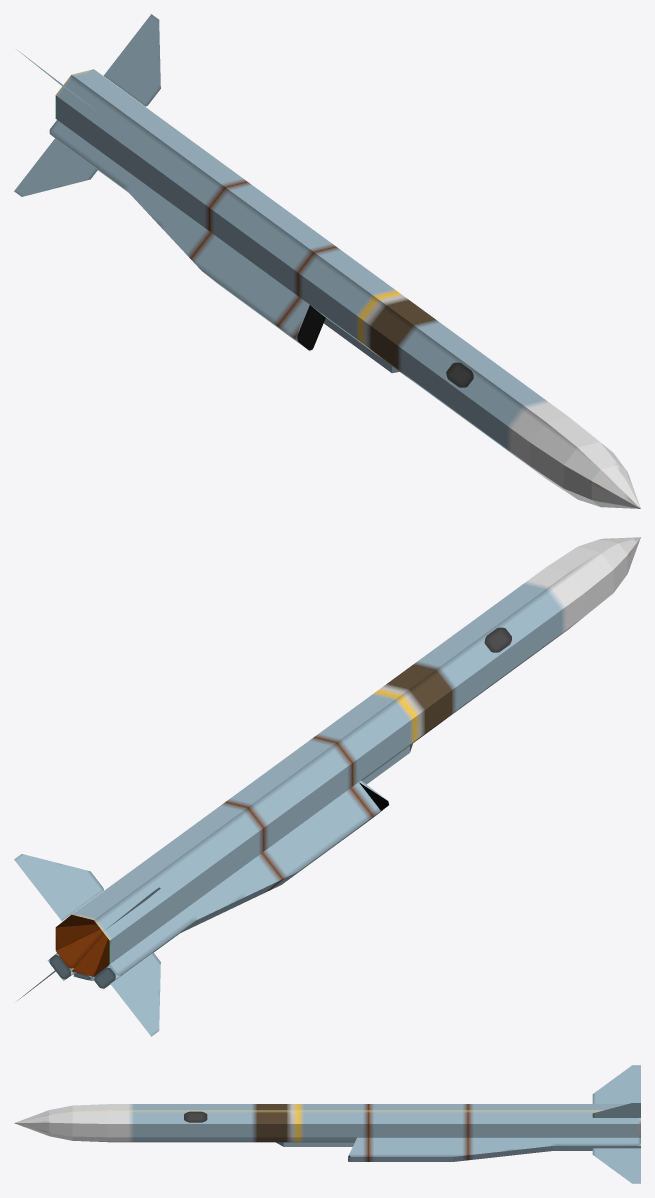
The model's file is meteor.obj.
3 views of the same model, one above another, from view 1: azimuth 30°, elevation 25°; view 2: azimuth 150°, elevation 25°; view 3: azimuth 270°, elevation 25° (orthographic). The views are drawn at different scales.
Visible parts, largest first — view 1: cylinder, cube4, plane, plane2; view 2: cylinder, cube4, plane, plane2; view 3: cylinder, cube3, plane3, plane1, plane, cuboid, cube1.
Part boxes in pixels (bbox=[...]): cylinder: bbox=[55, 69, 640, 508]; cube4: bbox=[49, 120, 325, 350]; plane: bbox=[103, 14, 160, 106]; plane2: bbox=[14, 138, 97, 196]; cylinder: bbox=[55, 537, 640, 976]; cube4: bbox=[92, 780, 388, 988]; plane: bbox=[14, 854, 103, 920]; plane2: bbox=[110, 952, 160, 1036]; cylinder: bbox=[14, 1104, 640, 1142]; cube3: bbox=[348, 1137, 640, 1161]; plane3: bbox=[592, 1065, 640, 1103]; plane1: bbox=[592, 1143, 640, 1183]; plane: bbox=[592, 1103, 640, 1117]; cuboid: bbox=[276, 1142, 354, 1146]; cube1: bbox=[184, 1111, 207, 1122].
Bounding box in the file's own units: 0.9502 × 0.9502 × 6.69.
